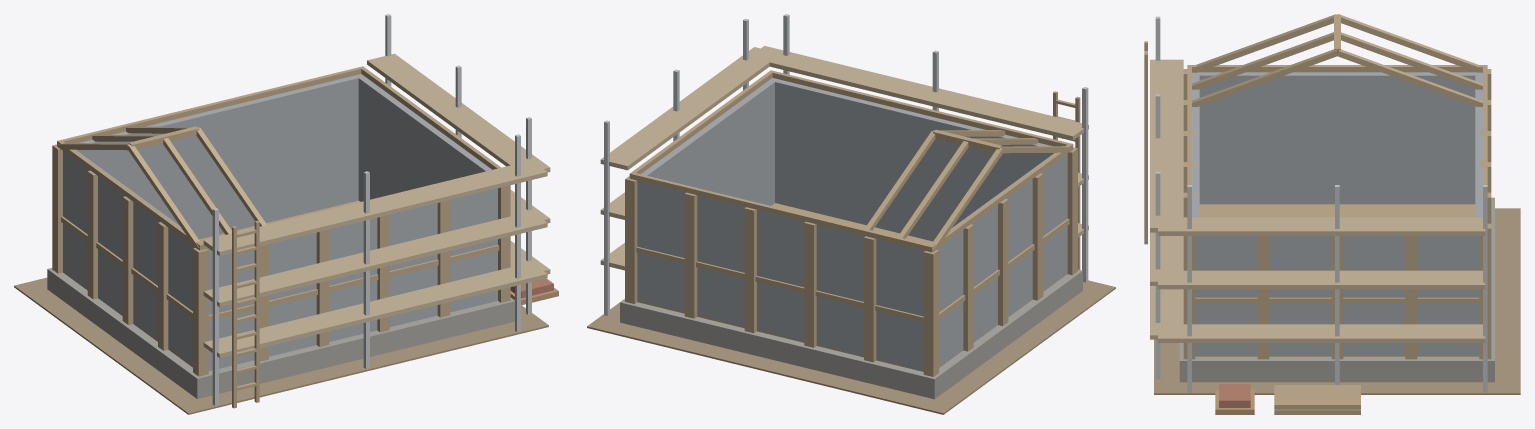
The model's file is garage_site_8.glb.
The picture shows the model from 3 angles, left to right: view 1: azimuth 30°, elevation 25°; view 2: azimuth 150°, elevation 25°; view 3: azimuth 270°, elevation 25°; orthographic projection. The views are drawn at different scales.
Visible parts, largest first — view 1: body; view 2: body; view 3: body.
Boxes of the visible parts, x1=… form: body: x1=14, y1=14, x2=558, y2=414; body: x1=587, y1=14, x2=1115, y2=414; body: x1=1144, y1=14, x2=1520, y2=414.
Bounding box in the file's own units: 2.46 × 1.18 × 1.91.
